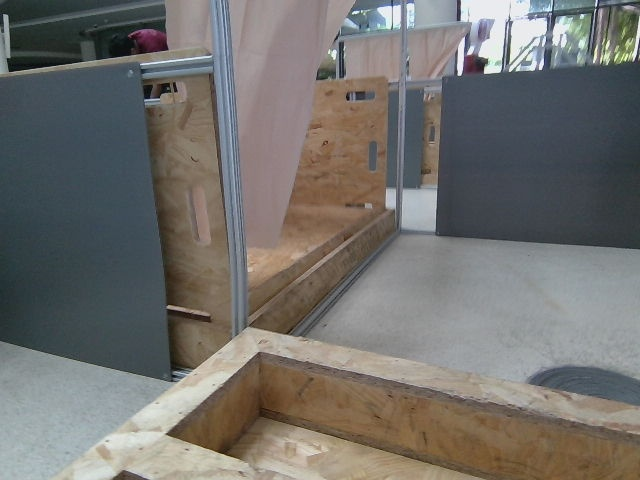curtain: (211, 0, 384, 230)
